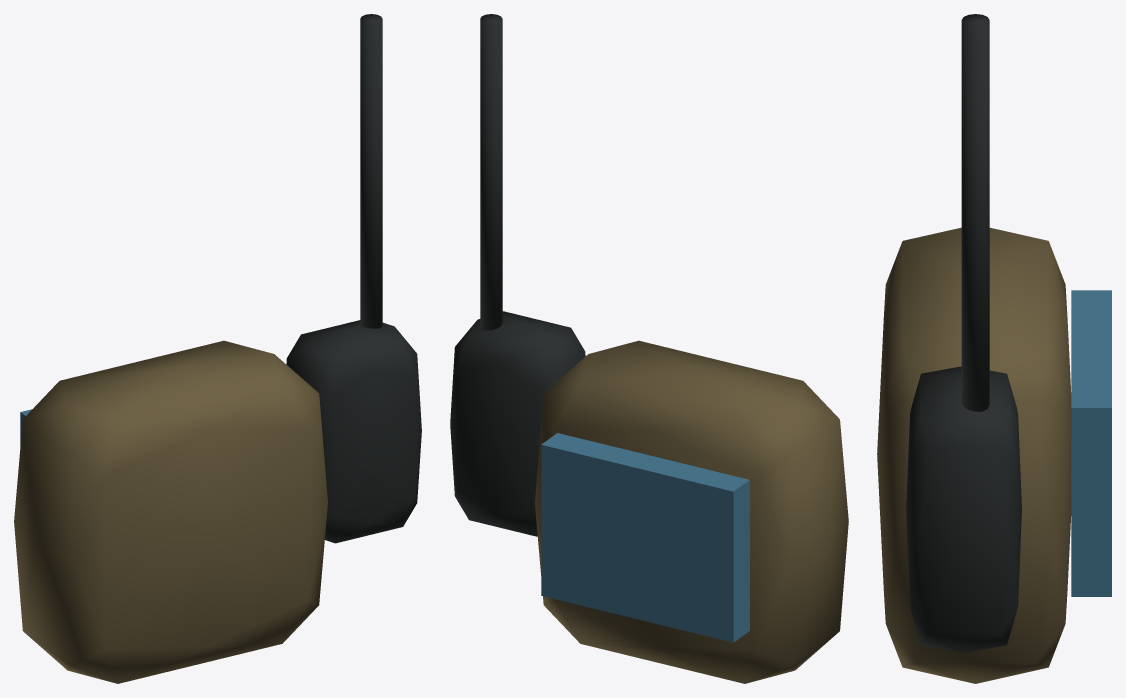
Rendered from Bastion_Gunner_Gear.obj.
3 views of the same model, side by side, from view 1: azimuth 30°, elevation 25°; view 2: azimuth 150°, elevation 25°; view 3: azimuth 270°, elevation 25° (orthographic). The views are drawn at different scales.
Visible parts, largest first — view 1: AmmoPack, Radio, Antenna; view 2: AmmoPack, AmmoPackPlate, Radio, Antenna; view 3: AmmoPack, Radio, AmmoPackPlate, Antenna.
Part boxes in pixels (x1=…): AmmoPack: x1=14, y1=340, x2=327, y2=683; Radio: x1=286, y1=320, x2=421, y2=543; Antenna: x1=360, y1=14, x2=382, y2=328; AmmoPack: x1=535, y1=340, x2=848, y2=683; AmmoPackPlate: x1=541, y1=433, x2=749, y2=642; Radio: x1=450, y1=311, x2=585, y2=536; Antenna: x1=480, y1=14, x2=502, y2=330; AmmoPack: x1=877, y1=227, x2=1071, y2=683; Radio: x1=906, y1=366, x2=1021, y2=652; AmmoPackPlate: x1=1071, y1=290, x2=1111, y2=596; Antenna: x1=961, y1=14, x2=989, y2=411.
Size of the model in its own units: 0.46 by 0.7 by 0.2025.
1 material, 1 textured.
